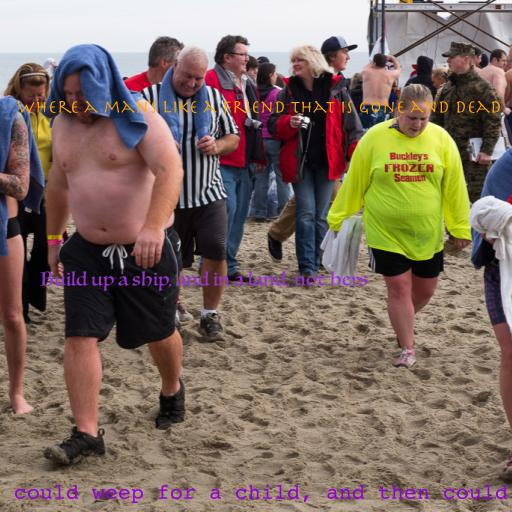Courier: (0, 484, 512, 503)
Herculanum: (16, 100, 502, 115)
Luminari: (40, 271, 368, 291)
